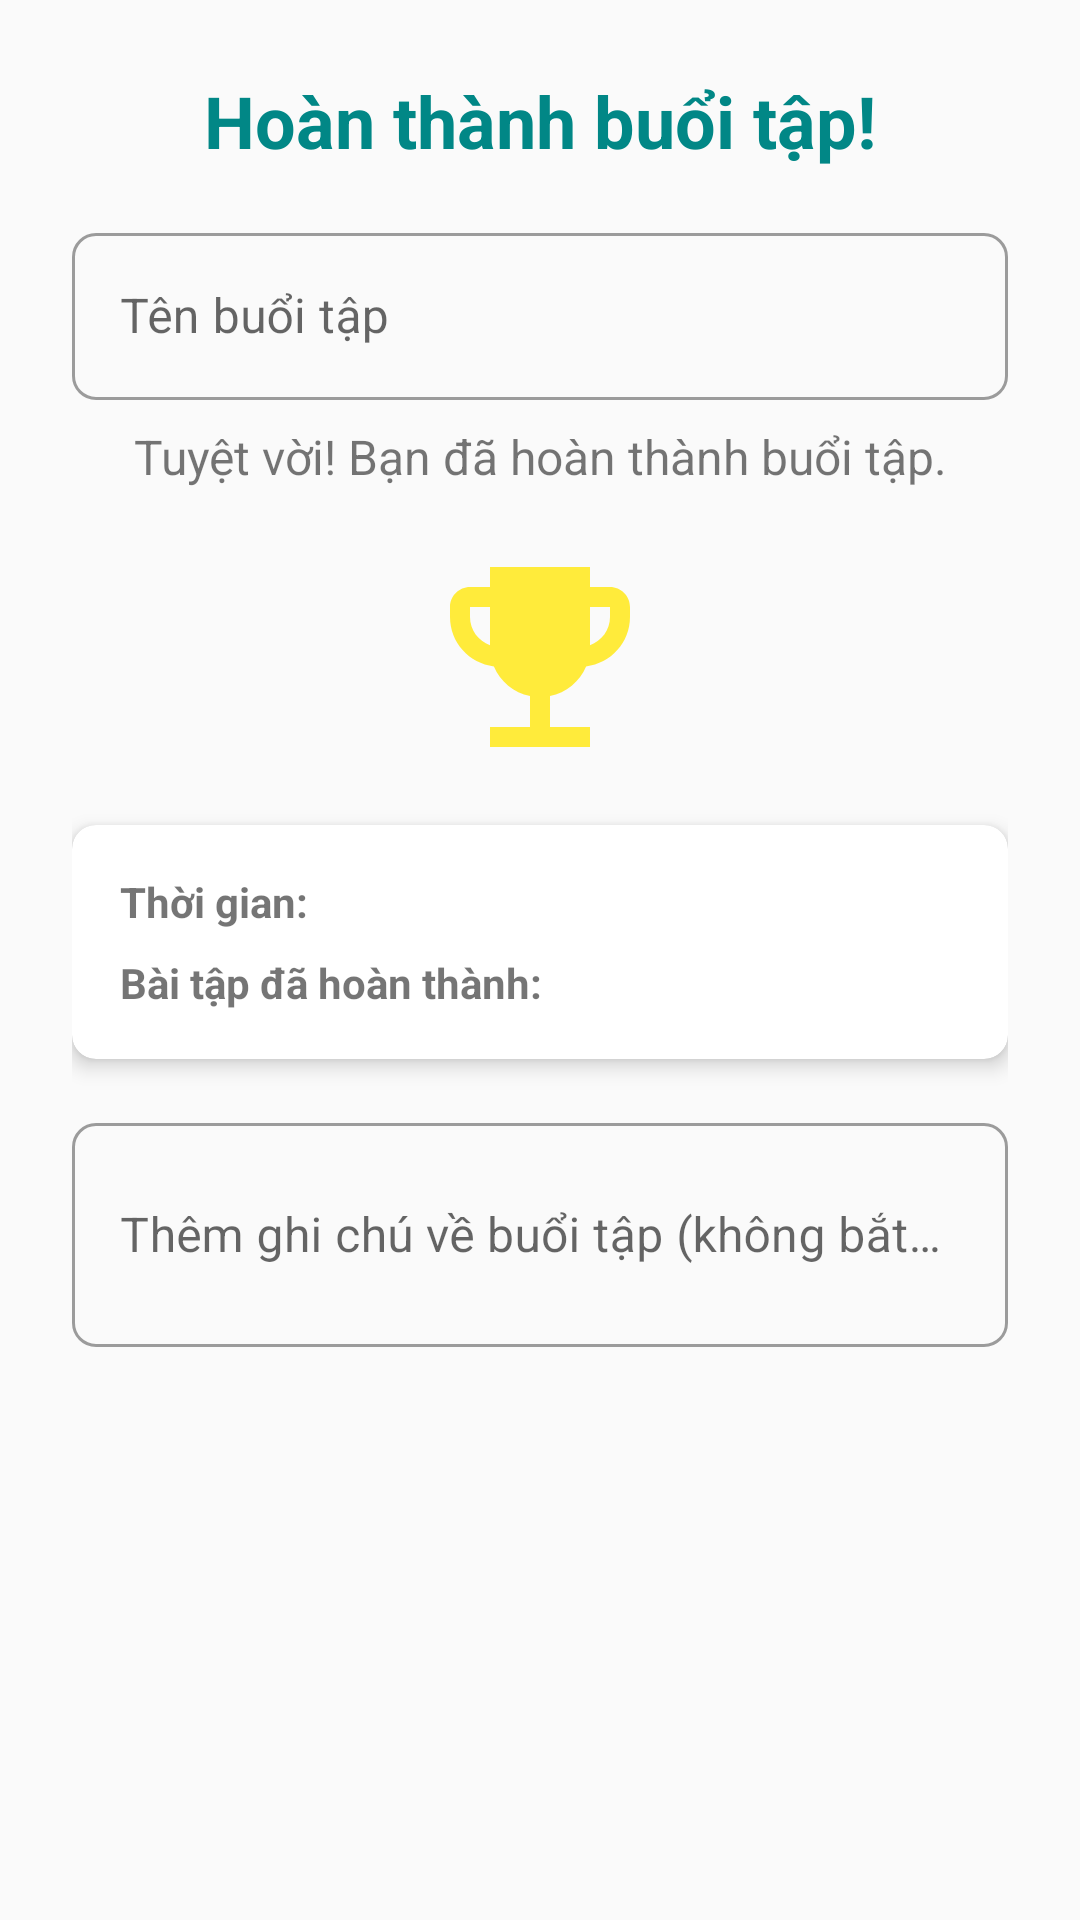

Named icons in this screenshot (1080px x 1920px) and their centers, point (x, y):
trophy: point (540, 657)
